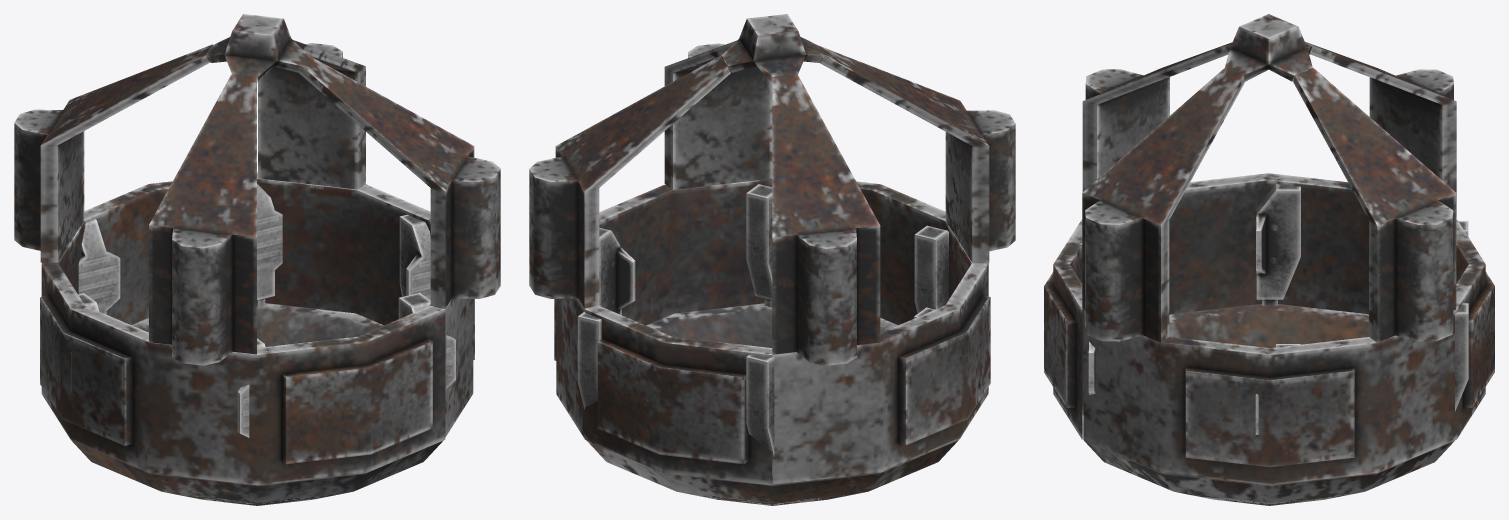
The picture shows the model from 3 angles, left to right: view 1: azimuth 30°, elevation 25°; view 2: azimuth 150°, elevation 25°; view 3: azimuth 270°, elevation 25°; orthographic projection.
Visible parts, largest first — view 1: break_6, break_7, break_4, break_3, break_5, break_2, break_1, break_8, leg_3, leg_5, leg_4, leg_6 (+1 smaller); view 2: break_7, break_6, break_5, break_2, break_4, break_3, break_1, break_8, leg_6, leg_1, leg_3, leg_5 (+1 smaller); view 3: break_7, break_6, break_2, break_3, break_1, break_5, break_4, leg_2, break_8, leg_4.
Boxes of the visible parts, left/top/right/bottom form: break_6: left=40, top=221, right=445, bottom=485; break_7: left=84, top=171, right=474, bottom=436; break_4: left=149, top=74, right=256, bottom=365; break_3: left=299, top=55, right=500, bottom=308; break_5: left=14, top=44, right=212, bottom=262; break_2: left=258, top=40, right=365, bottom=189; break_1: left=71, top=303, right=443, bottom=505; break_8: left=207, top=14, right=308, bottom=82; leg_3: left=78, top=219, right=120, bottom=314; leg_5: left=399, top=214, right=430, bottom=299; leg_4: left=257, top=184, right=282, bottom=306; leg_6: left=398, top=292, right=455, bottom=388; break_7: left=554, top=178, right=772, bottom=485; break_6: left=772, top=181, right=990, bottom=484; break_5: left=772, top=74, right=880, bottom=365; break_2: left=529, top=56, right=730, bottom=308; break_4: left=817, top=45, right=1015, bottom=263; break_3: left=664, top=40, right=772, bottom=189; break_1: left=587, top=303, right=958, bottom=505; break_8: left=722, top=14, right=823, bottom=81; leg_6: left=746, top=184, right=772, bottom=307; leg_1: left=914, top=225, right=948, bottom=313; leg_3: left=746, top=355, right=774, bottom=476; leg_5: left=599, top=227, right=635, bottom=314; break_7: left=1083, top=218, right=1494, bottom=485; break_6: left=1044, top=173, right=1368, bottom=439; break_2: left=1293, top=68, right=1456, bottom=342; break_3: left=1082, top=68, right=1245, bottom=342; break_1: left=1084, top=304, right=1454, bottom=505; break_5: left=1305, top=42, right=1456, bottom=217; break_4: left=1082, top=42, right=1232, bottom=191; leg_2: left=1256, top=184, right=1300, bottom=305; break_8: left=1225, top=14, right=1312, bottom=81; leg_4: left=1455, top=303, right=1468, bottom=411.
Size of the model in its own units: 43.64 by 43.81 by 47.88.
Materials: 1 (1 with a texture image).
